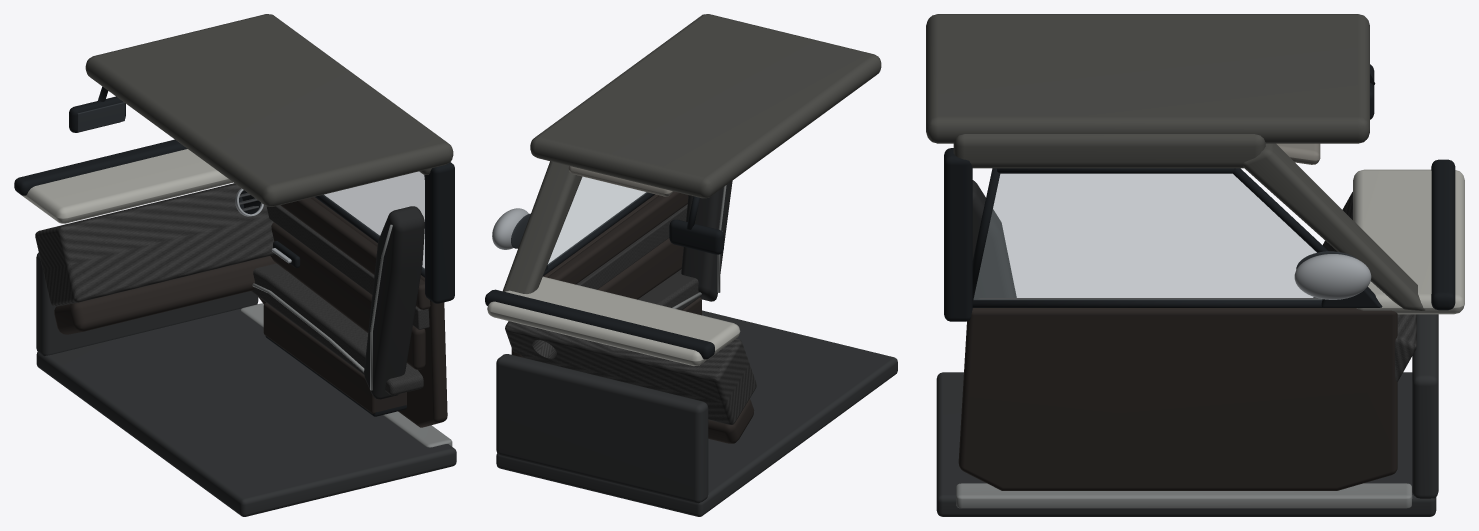
File: D1_shared_dashboard.glb
3 renders of one model, left to right at view 1: azimuth 30°, elevation 25°; view 2: azimuth 150°, elevation 25°; view 3: azimuth 270°, elevation 25°, orthographic. The views are drawn at different scales.
Visible parts, largest first — view 1: B01_inferred_floor_boundary, A03_partial_headliner, D02_dashboard_end_fascia, D01_dashboard_top, S01_visible_seat_outer_bolster, D07_lower_dash_local, P05_armrest_woven, B03_front_footwell_back, P04_padded_mid_panel, A04_partial_rear_window_return, P10_pocket_outer_wall, P01_door_carrier (+10 smaller); view 2: A03_partial_headliner, B03_front_footwell_back, B01_inferred_floor_boundary, D02_dashboard_end_fascia, D01_dashboard_top, A01_fixed_A_pillar, P02_upper_belt, P12_side_window_glass, A07_windshield_lower_return, S01_visible_seat_outer_bolster, P04_padded_mid_panel, P03_woven_upper_insert (+7 smaller); view 3: P01_door_carrier, A03_partial_headliner, P12_side_window_glass, A02_side_roof_rail, B01_inferred_floor_boundary, D01_dashboard_top, B02_sill_fixed, A01_fixed_A_pillar, A04_partial_rear_window_return, B03_front_footwell_back, A07_windshield_lower_return, P13_window_frame_4 (+9 smaller).
Part boxes in pixels (x1,y1,x2,y2): B01_inferred_floor_boundary: (36, 308, 456, 516); A03_partial_headliner: (85, 14, 453, 206); D02_dashboard_end_fascia: (35, 183, 275, 306); D01_dashboard_top: (20, 149, 233, 223); S01_visible_seat_outer_bolster: (364, 206, 424, 399); D07_lower_dash_local: (54, 256, 276, 334); P05_armrest_woven: (251, 263, 423, 395); B03_front_footwell_back: (36, 252, 258, 356); P04_padded_mid_panel: (270, 222, 425, 369); A04_partial_rear_window_return: (425, 162, 454, 303); P10_pocket_outer_wall: (263, 302, 376, 413); P01_door_carrier: (258, 197, 447, 427); A03_partial_headliner: (530, 14, 881, 198); B03_front_footwell_back: (496, 354, 708, 503); B01_inferred_floor_boundary: (496, 310, 897, 516); D02_dashboard_end_fascia: (505, 321, 756, 424); D01_dashboard_top: (487, 276, 740, 365); A01_fixed_A_pillar: (503, 161, 582, 293); P02_upper_belt: (547, 191, 688, 284); P12_side_window_glass: (548, 177, 646, 264); A07_windshield_lower_return: (485, 289, 714, 359); S01_visible_seat_outer_bolster: (681, 181, 732, 301); P04_padded_mid_panel: (597, 238, 683, 299); P03_woven_upper_insert: (576, 204, 687, 289); P01_door_carrier: (958, 308, 1397, 490); A03_partial_headliner: (926, 14, 1369, 143); P12_side_window_glass: (973, 174, 1322, 299); A02_side_roof_rail: (953, 134, 1265, 168); B01_inferred_floor_boundary: (936, 372, 1436, 516); D01_dashboard_top: (1353, 169, 1464, 314); B02_sill_fixed: (956, 483, 1412, 508); A01_fixed_A_pillar: (1242, 143, 1425, 310); A04_partial_rear_window_return: (944, 148, 972, 321); B03_front_footwell_back: (1412, 314, 1438, 498); A07_windshield_lower_return: (1431, 159, 1455, 310); P13_window_frame_4: (972, 299, 1322, 307).
Bounding box in the file's own units: 1.55 × 1.81 × 2.25.
13 materials, 1 textured.
